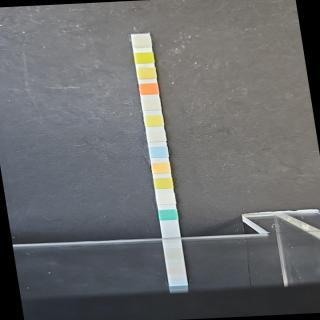mark: (141, 98, 161, 112), (134, 52, 154, 65), (153, 178, 174, 190), (137, 68, 157, 80), (139, 83, 159, 95), (144, 115, 164, 127), (149, 146, 169, 158), (152, 162, 172, 174), (156, 193, 176, 205), (158, 208, 178, 220), (132, 37, 152, 48), (146, 132, 167, 142)
